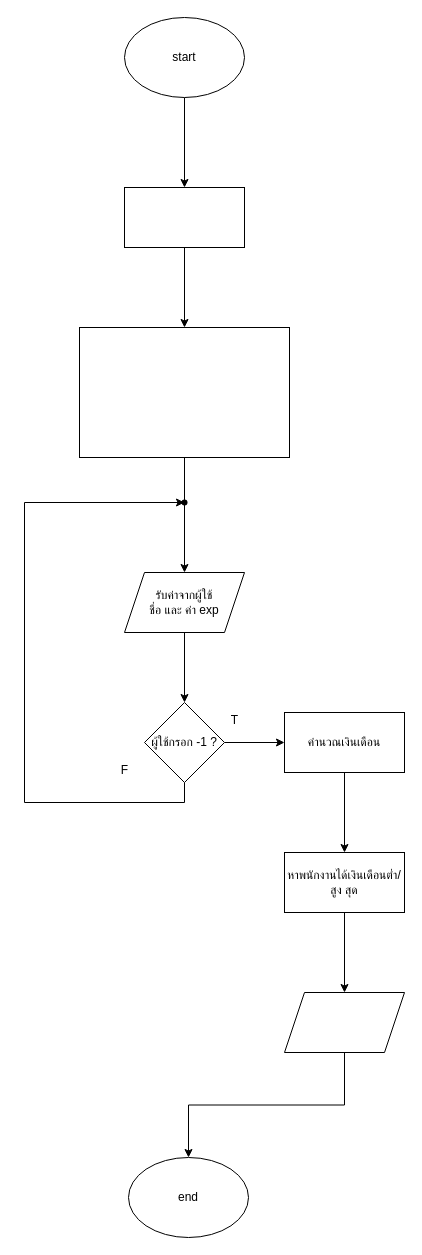
Some shapes in this 422 by 1255 pixel diagram are drawn without their labels. The box of each missing label's shape, as (x1, y1, x2, y2) in pixels:
กำหนดตัวแปร employees , multiplierCounts , count , minIndex , maxIndex: (78, 326, 290, 458)
สร้าง struct Employee: (124, 186, 244, 248)
แสดงผลลัพธ์: (284, 992, 404, 1052)
